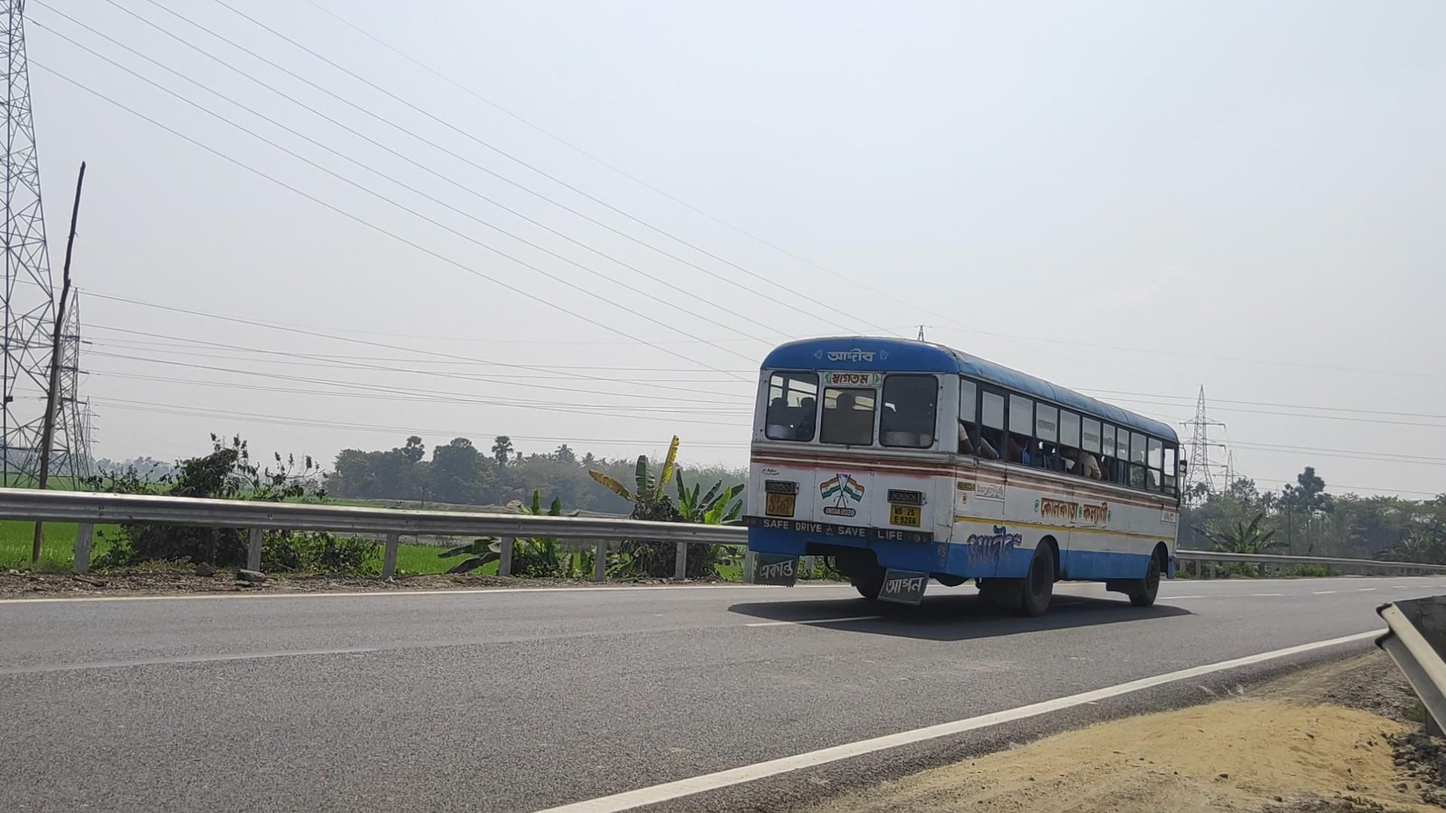Bus: (742, 336, 1188, 615)
